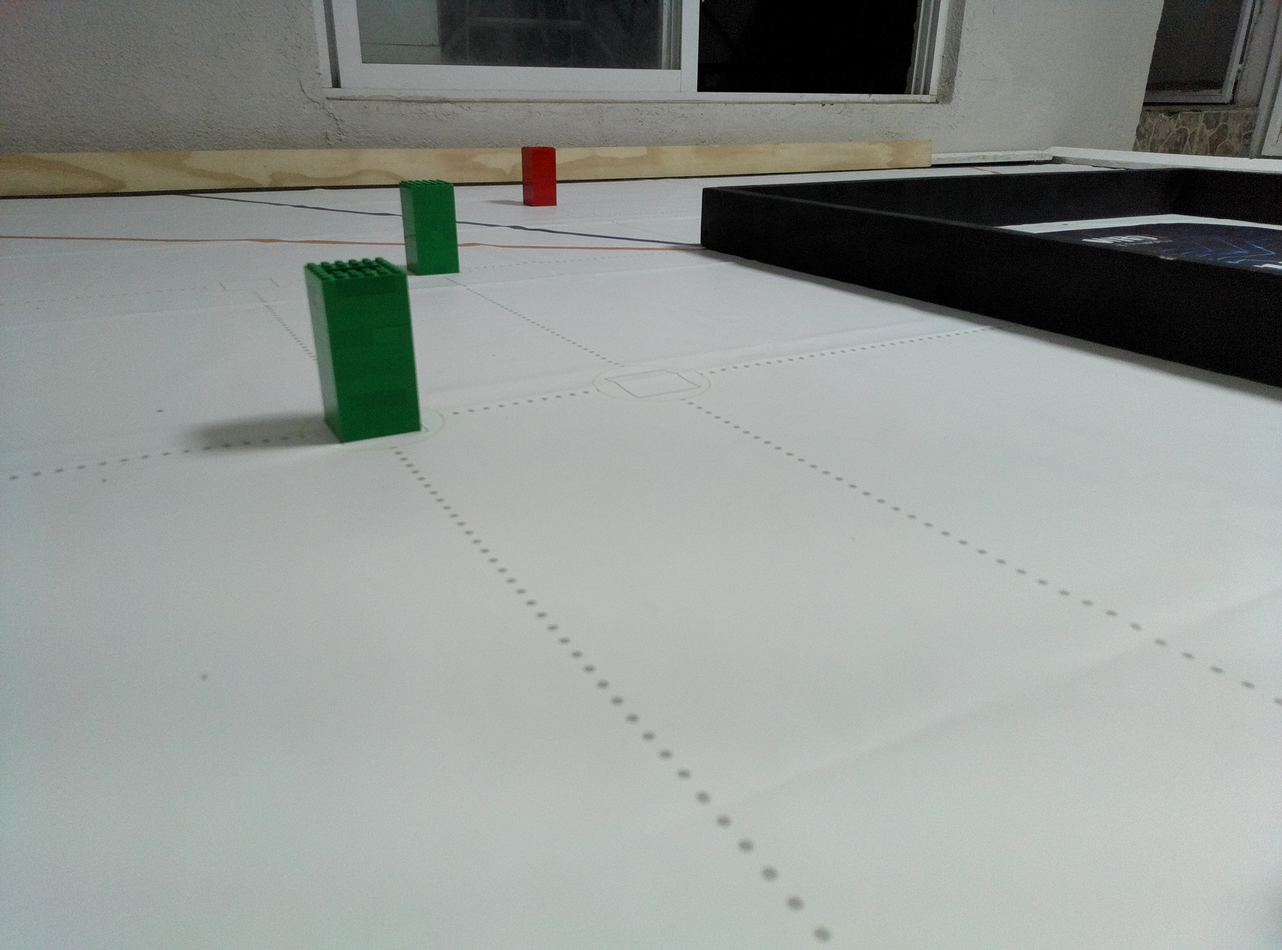greenbox: (303, 257, 423, 445), (398, 179, 461, 275)
redbox: (521, 146, 557, 207)
